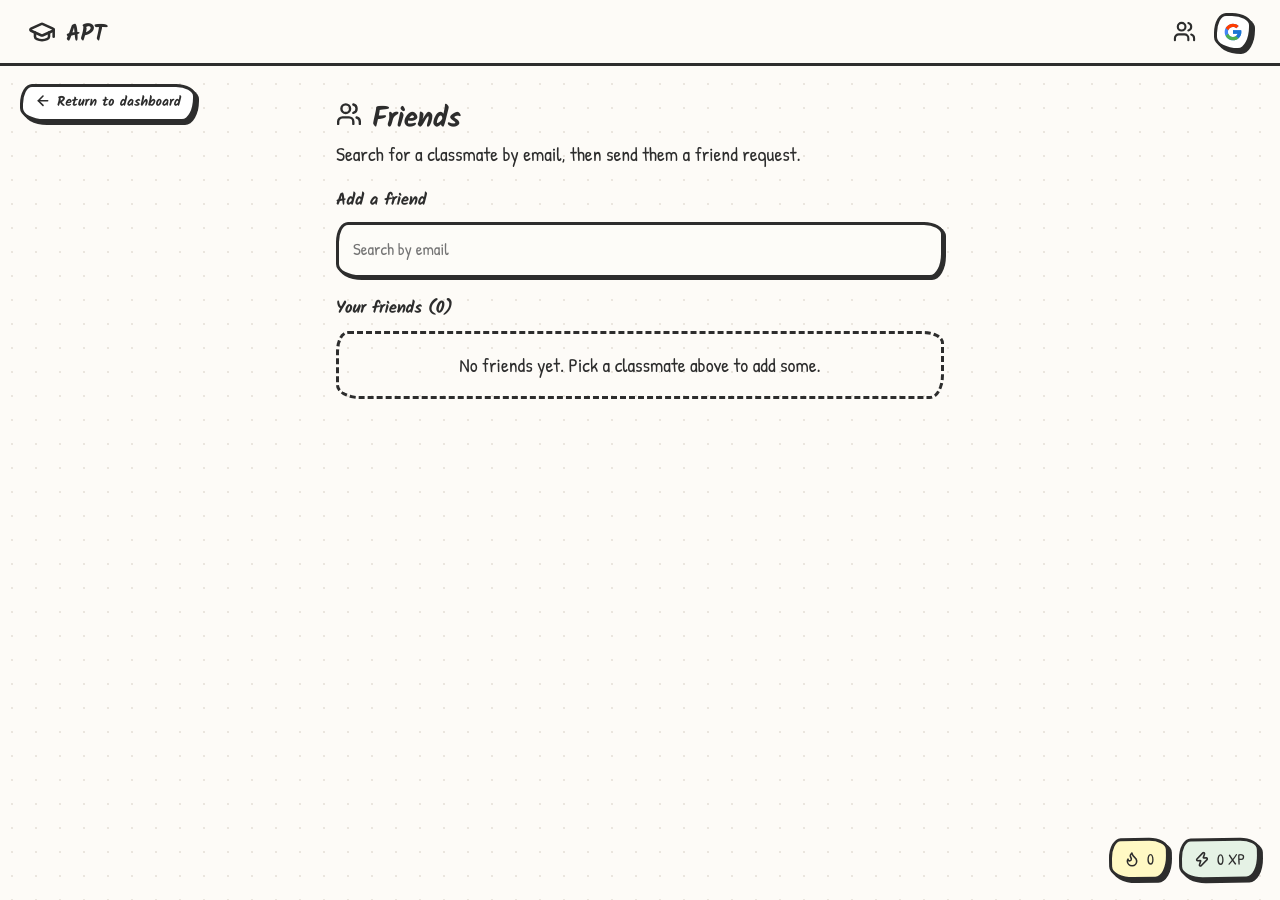
Test: FriendsPage › finds a classmate by email and shows their name
Note: A name-only term does not match: search is by email only.
Type "curie" into the field labelled "Search by email". click: (640, 250)
box: [336,222,944,278]
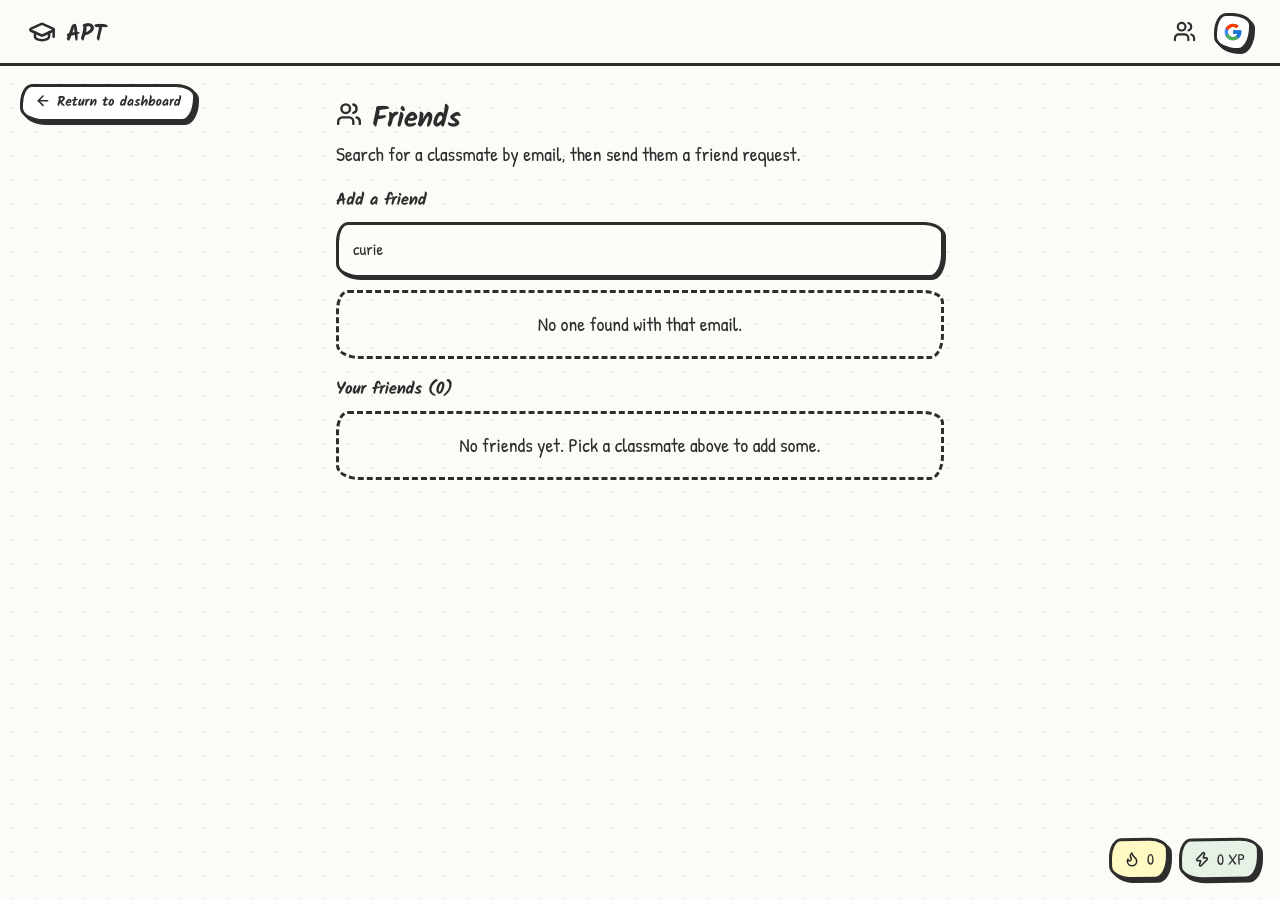
expect the text "No one found with that email." is shown: met, box [336,290,944,358]
Note: Searching the email surfaces the person, displayed by name.
Replace the text in the field named "Search by email" with "zoe@example.com". click: (640, 250)
box: [336,222,944,278]
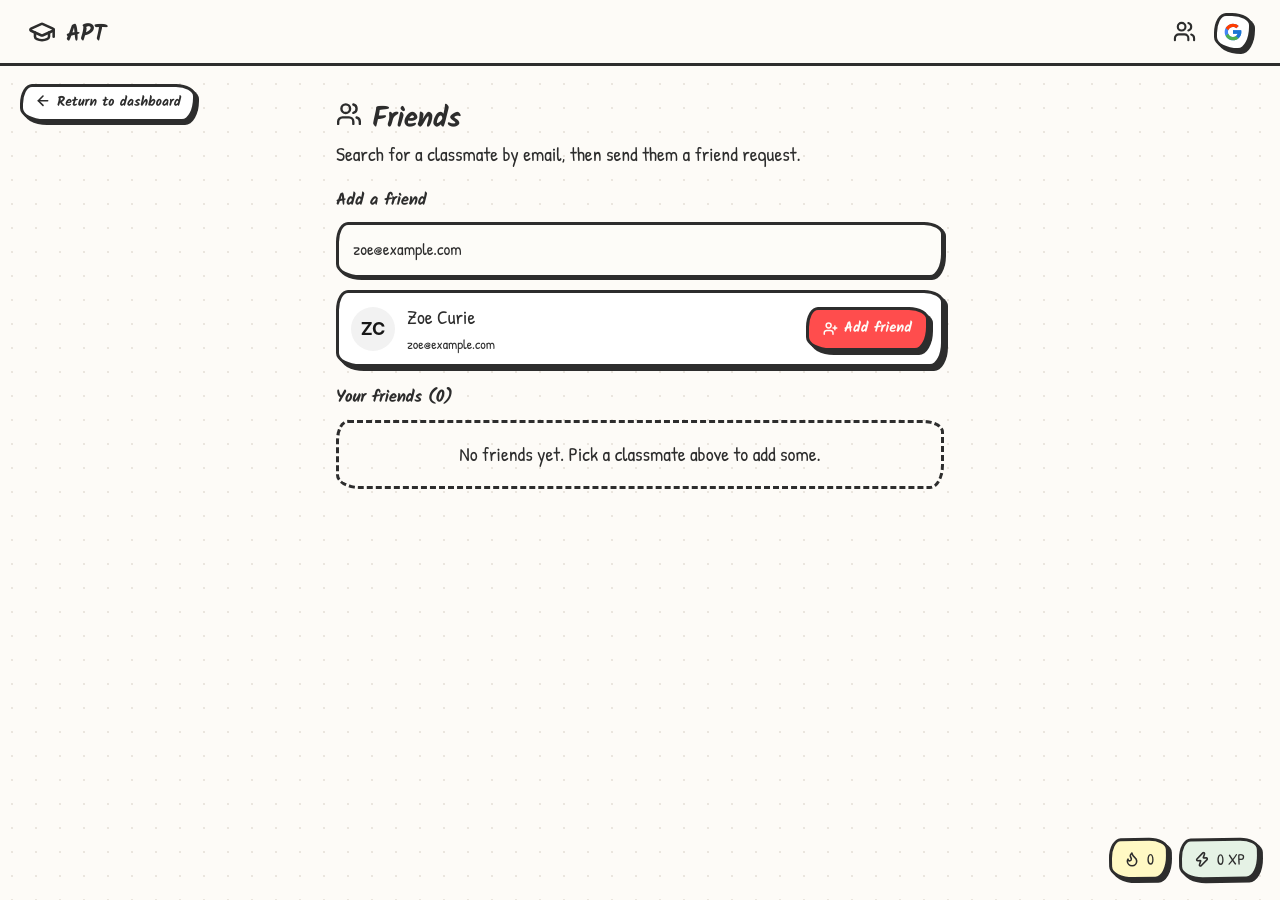
expect the text "Zoe Curie" is shown: met, box [407,304,475,330]
expect the text "zoe@example.com" is shown: met, box [407,335,495,353]
